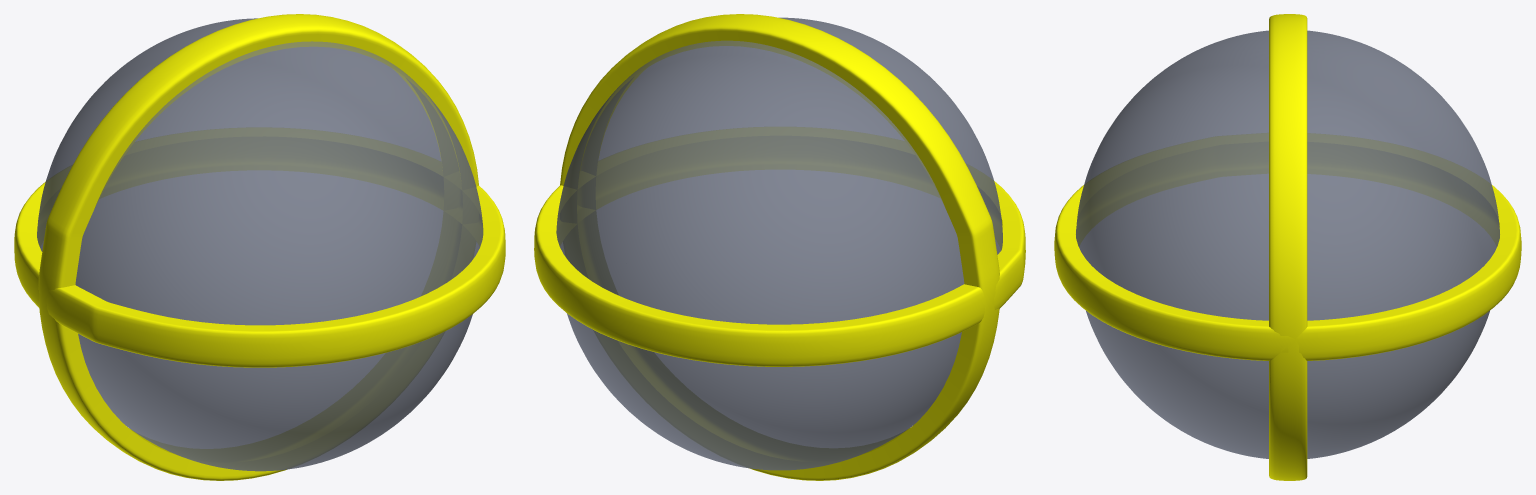
File: Bombyte.fbx
3 renders of one model, left to right at view 1: azimuth 30°, elevation 25°; view 2: azimuth 150°, elevation 25°; view 3: azimuth 270°, elevation 25°, orthographic. The views are drawn at different scales.
Visible parts, largest first — view 1: pSphere5; view 2: pSphere5; view 3: pSphere5.
Part boxes in pixels (box(x1,y1,x2,y2)): pSphere5: box(14, 14, 505, 480); pSphere5: box(534, 14, 1025, 480); pSphere5: box(1054, 14, 1521, 480).
Bounding box in the file's own units: 2.16 × 2.16 × 2.16.
